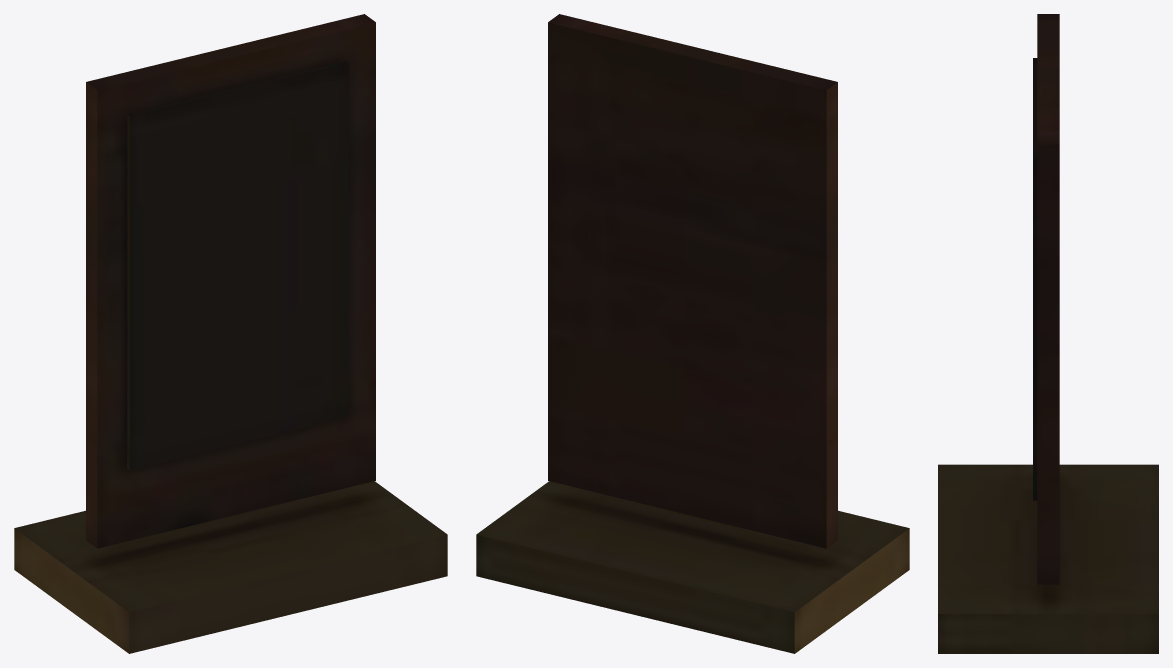
Rendered from cantina_prop_menu_lod1.glb.
3 views of the same model, side by side, from view 1: azimuth 30°, elevation 25°; view 2: azimuth 150°, elevation 25°; view 3: azimuth 270°, elevation 25° (orthographic). The views are drawn at different scales.
Parts seen in each view (by area): view 1: cantina_prop_menu; view 2: cantina_prop_menu; view 3: cantina_prop_menu.
Boxes of the visible parts, left/top/right/bottom form: cantina_prop_menu: left=14, top=14, right=447, bottom=653; cantina_prop_menu: left=476, top=14, right=909, bottom=653; cantina_prop_menu: left=938, top=14, right=1158, bottom=653.
Size of the model in its own units: 0.16 by 0.25 by 0.1.
1 material, 1 textured.
